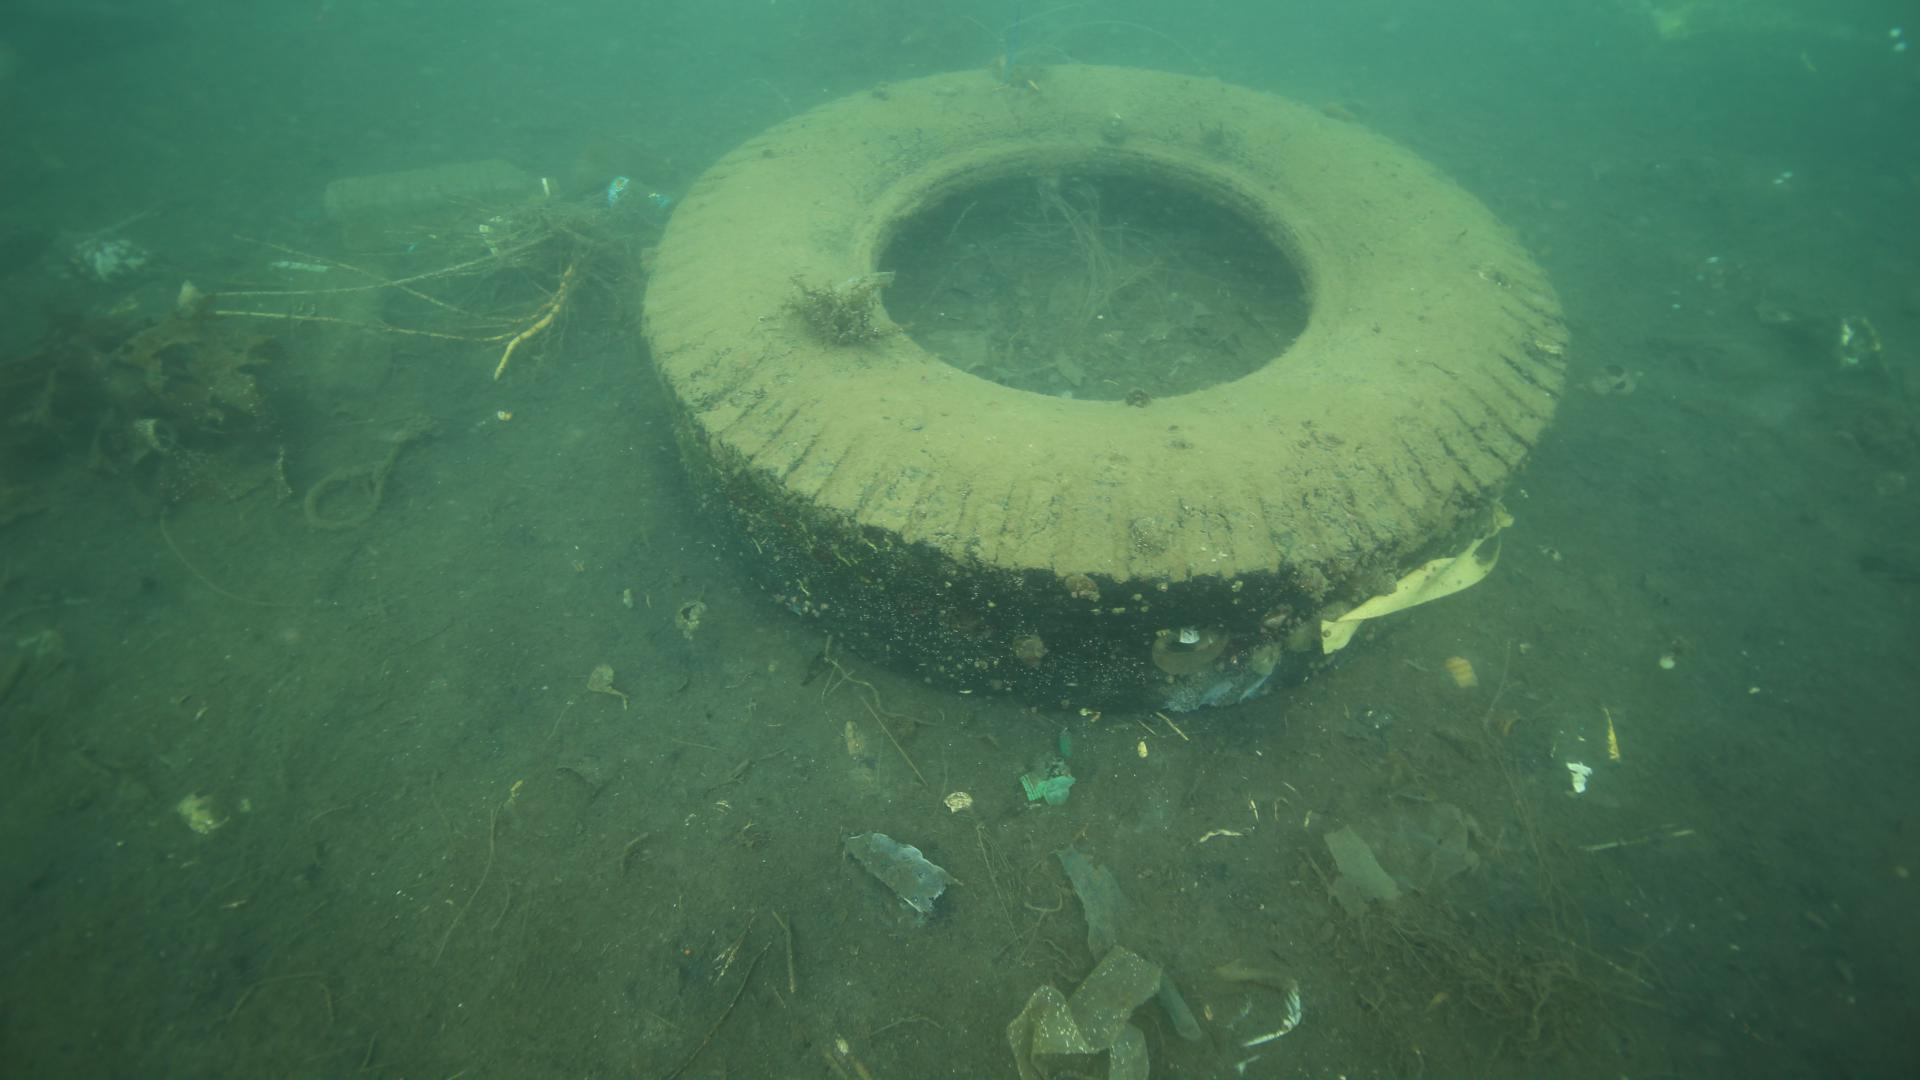tire: (630, 51, 1571, 709)
